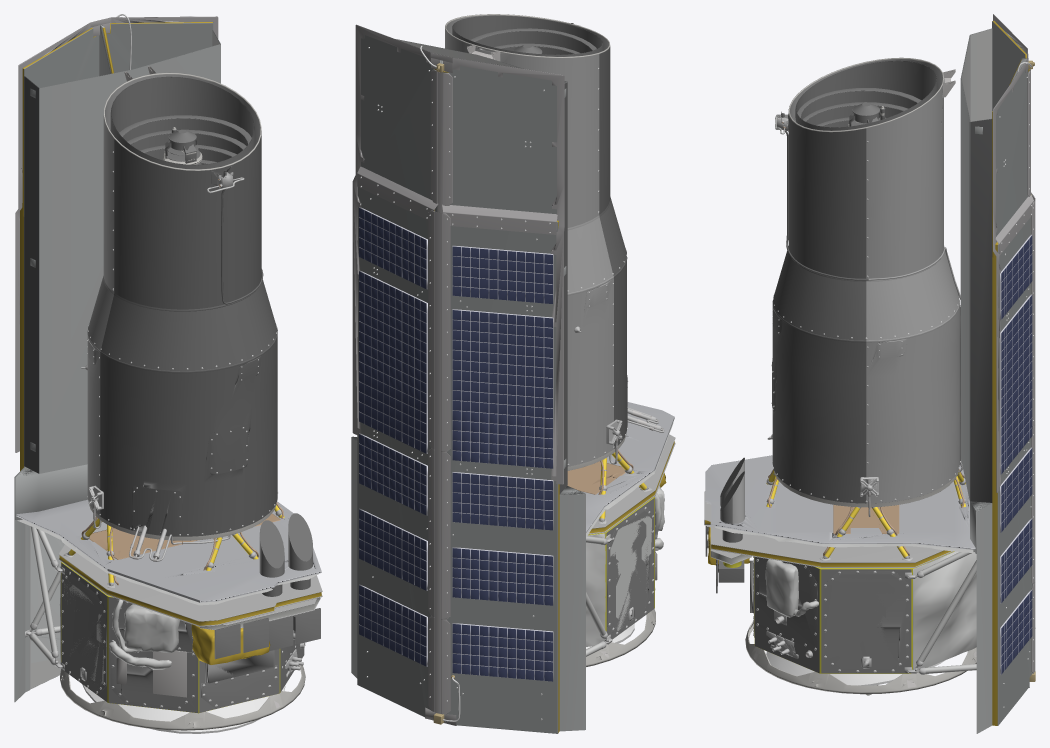
Rendered from spitzer.glb.
The picture shows the model from 3 angles, left to right: view 1: azimuth 30°, elevation 25°; view 2: azimuth 150°, elevation 25°; view 3: azimuth 270°, elevation 25°; orthographic projection. The views are drawn at different scales.
Visible parts, largest first — view 1: Fake; view 2: Fake; view 3: Fake.
Boxes of the visible parts, box(x1,y1,x2,y2) form: Fake: box(14, 14, 322, 733); Fake: box(351, 14, 675, 733); Fake: box(704, 14, 1035, 733).
Size of the model in its own units: 1.62 by 4.49 by 2.11.
